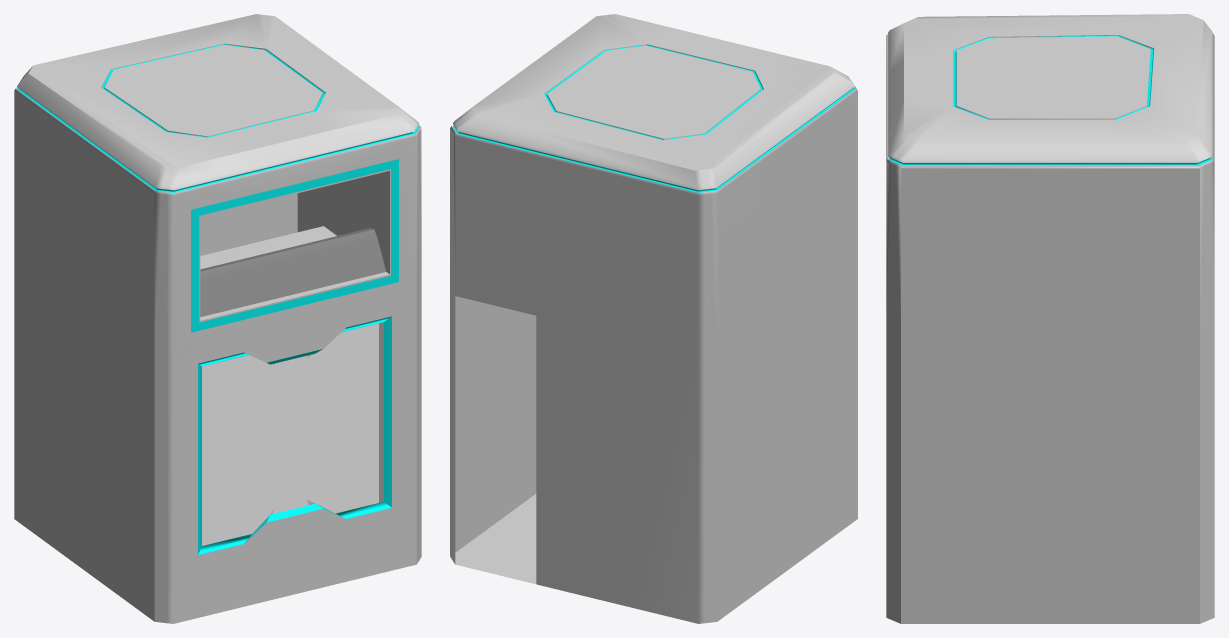
File: kitchenStove.glb
3 renders of one model, left to right at view 1: azimuth 30°, elevation 25°; view 2: azimuth 150°, elevation 25°; view 3: azimuth 270°, elevation 25°, orthographic. The views are drawn at different scales.
Visible parts, largest first — view 1: kitchenStove; view 2: kitchenStove; view 3: kitchenStove.
Part boxes in pixels (bbox=[...]): kitchenStove: bbox=[14, 14, 421, 623]; kitchenStove: bbox=[450, 14, 857, 623]; kitchenStove: bbox=[886, 14, 1214, 623].
Size of the model in its own units: 0.8911 by 1.43 by 0.8911.
